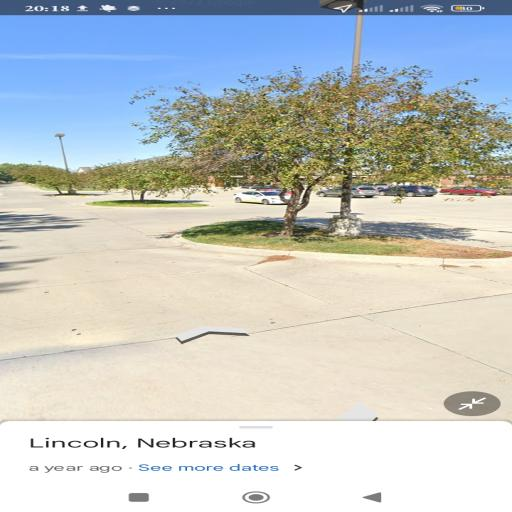Roads: (0, 182, 512, 430)
Trees: (161, 70, 492, 250)
